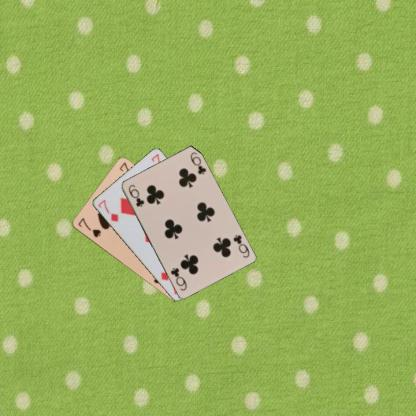6c: (230, 232, 251, 259), (125, 182, 145, 208)
7d: (94, 197, 119, 223)
7s: (75, 215, 102, 239)
